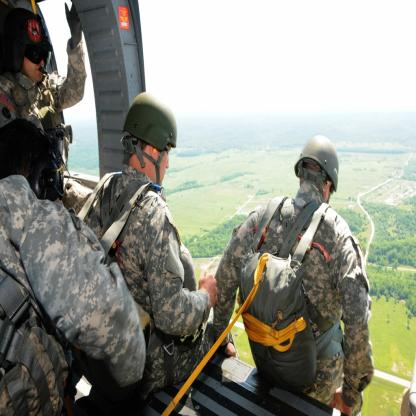Helmet: (122, 93, 174, 189), (2, 9, 54, 83), (296, 141, 339, 202)
